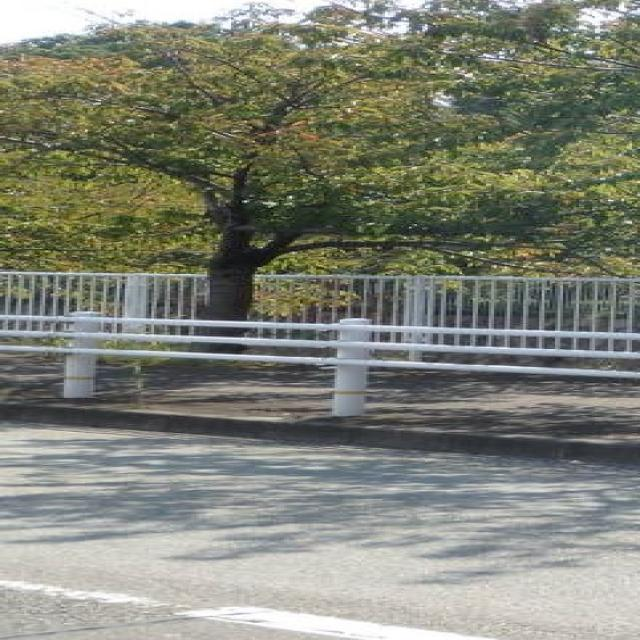sakura: (0, 2, 640, 363)
